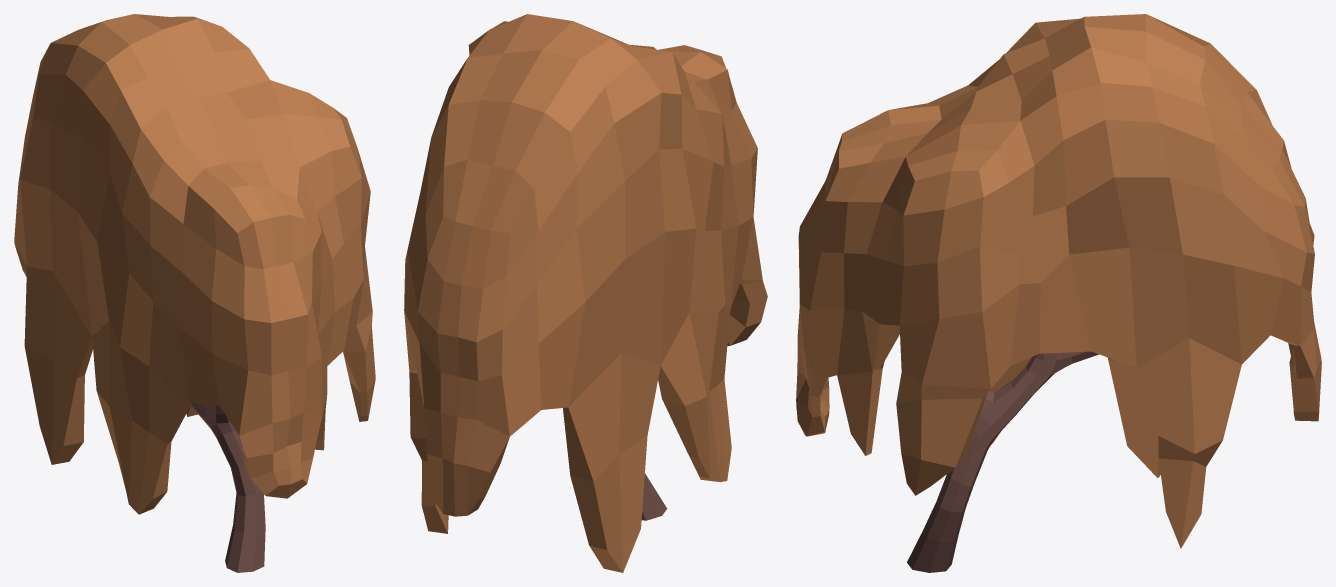
The model's file is willow_autumn_1.glb.
3 views of the same model, side by side, from view 1: azimuth 30°, elevation 25°; view 2: azimuth 150°, elevation 25°; view 3: azimuth 270°, elevation 25° (orthographic). The views are drawn at different scales.
Visible parts, largest first — view 1: Willow_Autumn_1; view 2: Willow_Autumn_1; view 3: Willow_Autumn_1.
Part boxes in pixels (left/top/right/bottom): Willow_Autumn_1: left=14, top=14, right=375, bottom=572; Willow_Autumn_1: left=404, top=14, right=767, bottom=572; Willow_Autumn_1: left=796, top=14, right=1321, bottom=572.
Size of the model in its own units: 1.45 by 2.85 by 2.55.
